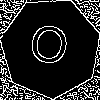O: (25, 23, 71, 75)
